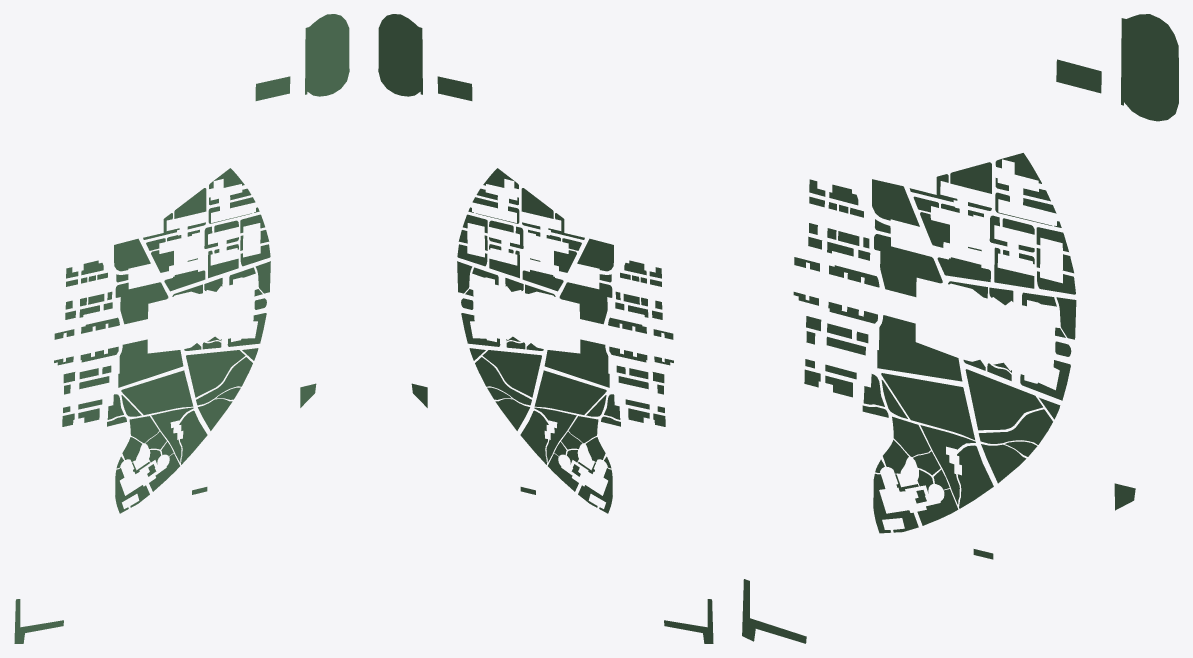
The model's file is green_areas.obj.
3 renders of one model, left to right at view 1: azimuth 30°, elevation 25°; view 2: azimuth 150°, elevation 25°; view 3: azimuth 330°, elevation 25°, orthographic. The views are drawn at different scales.
Visible parts, largest first — view 1: xatu_green_areas; view 2: xatu_green_areas; view 3: xatu_green_areas.
Part boxes in pixels (x1,y1,x2,y2): xatu_green_areas: (14,14,349,643); xatu_green_areas: (378,14,713,643); xatu_green_areas: (742,14,1178,643).
Size of the model in its own units: 720 by 1140 by 0.
